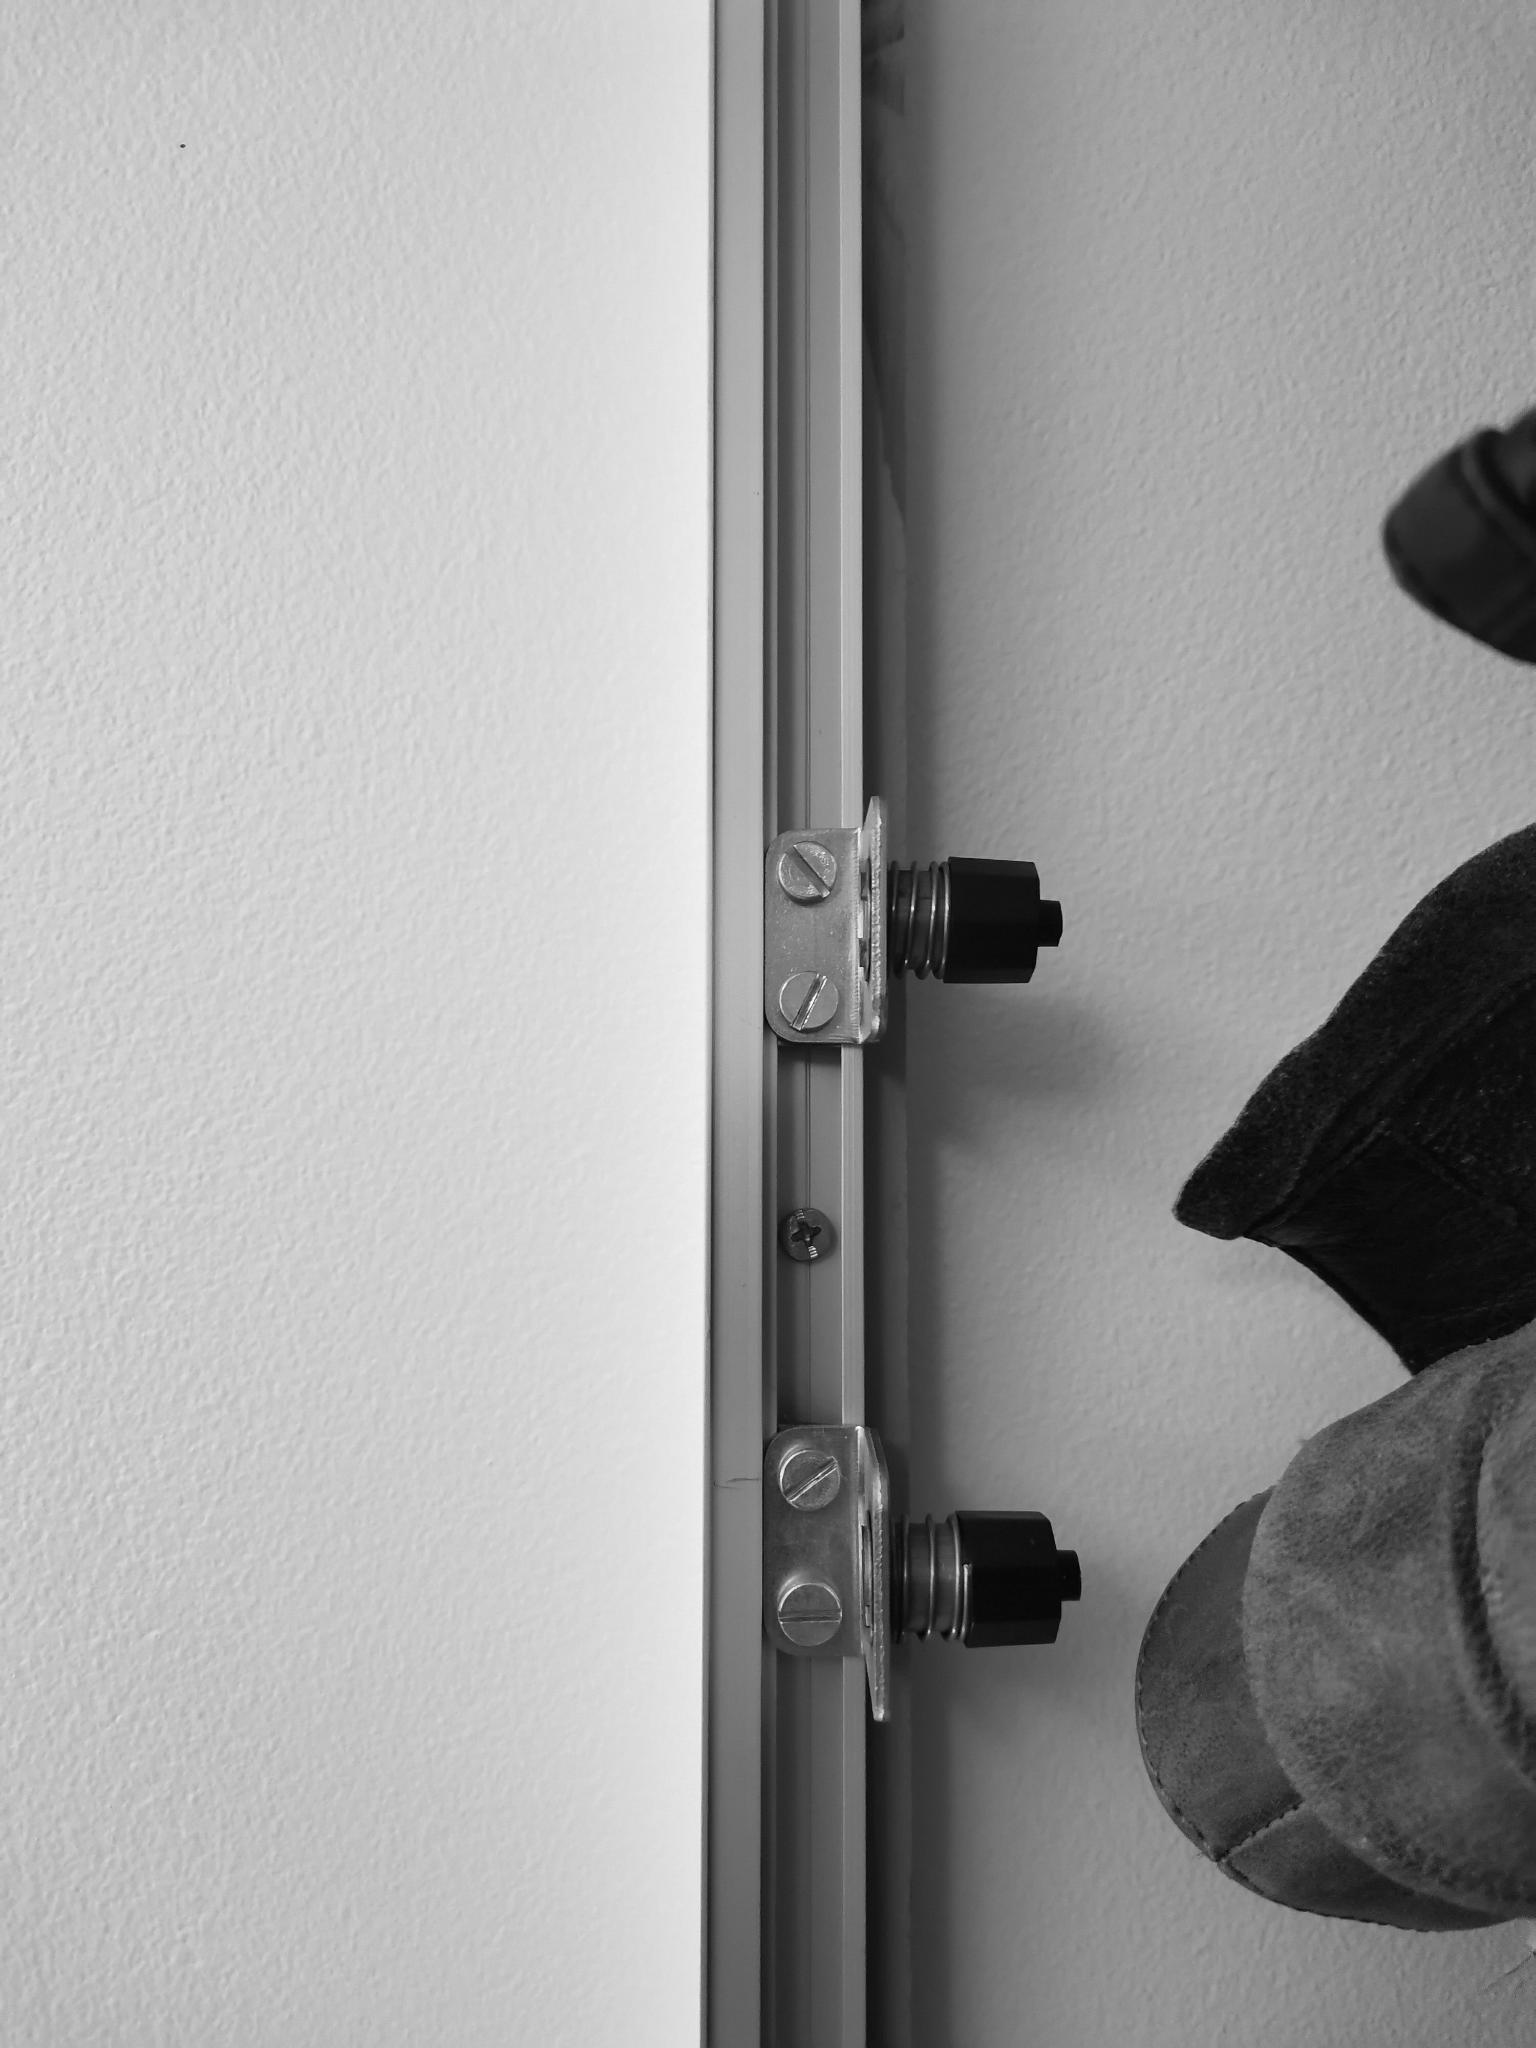screw: (771, 1576, 849, 1646), (776, 1445, 849, 1514), (776, 840, 837, 906), (776, 971, 842, 1030), (774, 1205, 837, 1266)
